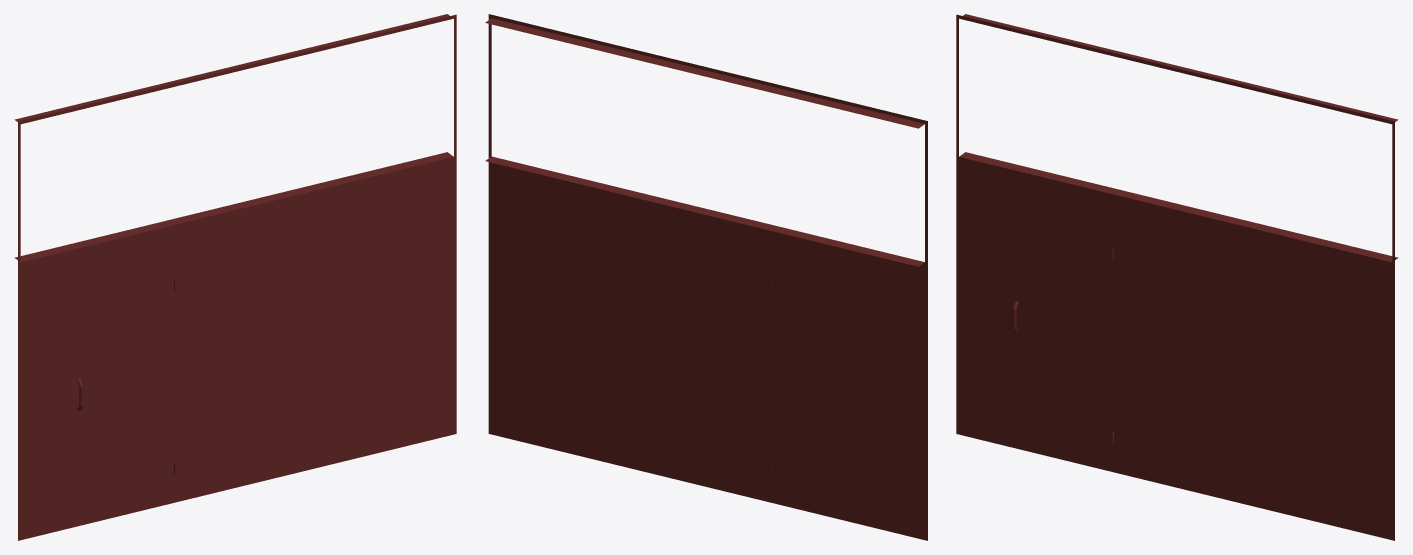
Rendered from p3-entrance-enter.fbx.
The picture shows the model from 3 angles, left to right: view 1: azimuth 30°, elevation 25°; view 2: azimuth 150°, elevation 25°; view 3: azimuth 330°, elevation 25°; orthographic projection.
Visible parts, largest first — view 1: p3-entrance-enter; view 2: p3-entrance-enter; view 3: p3-entrance-enter.
Boxes of the visible parts, x1,y1,x2,y2 form: p3-entrance-enter: [14, 14, 456, 540]; p3-entrance-enter: [485, 14, 927, 540]; p3-entrance-enter: [956, 14, 1398, 540].
Size of the model in its own units: 394 by 360 by 15.33.
